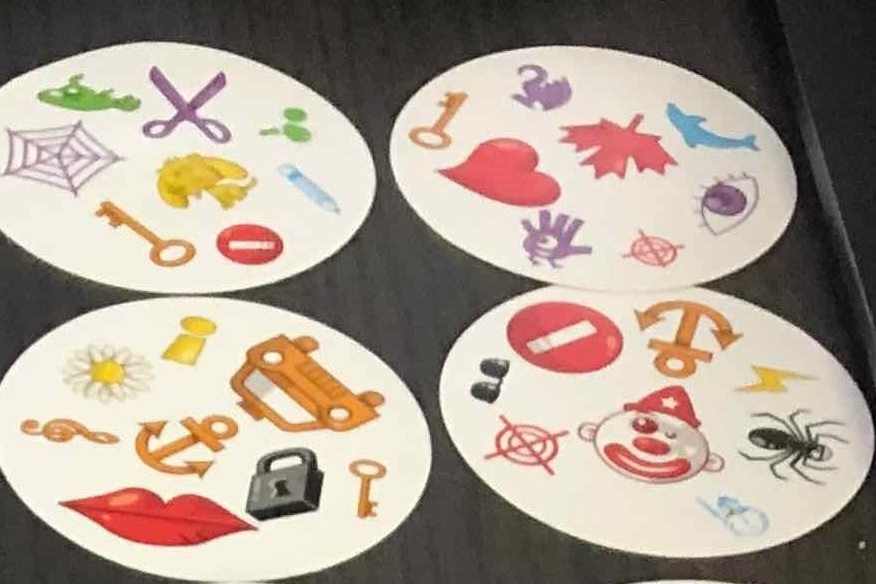ancre: (631, 296, 736, 375), (131, 409, 245, 474)
araignee: (739, 409, 851, 487)
bonhomme_neige: (693, 487, 770, 539)
bouche: (51, 483, 255, 549)
cadenas: (243, 446, 332, 521)
chien: (152, 149, 262, 214)
cible: (478, 411, 568, 478), (618, 228, 685, 269)
ciseau: (139, 63, 239, 149)
cle: (91, 197, 201, 274), (407, 87, 473, 149), (345, 457, 388, 521)
clown: (572, 381, 727, 488)
coeur: (438, 137, 561, 211)
crayon: (277, 161, 352, 218)
dauphin: (659, 97, 767, 157)
dinosore: (31, 68, 145, 115)
dooble: (515, 208, 594, 272)
feuille: (559, 114, 681, 185)
fleur: (60, 343, 156, 403), (729, 362, 814, 396)
lunette: (463, 349, 514, 408)
note: (13, 413, 124, 452)
oeuil: (683, 170, 763, 237), (504, 60, 574, 116)
point_exclamation: (153, 316, 226, 370)
sens_interdit: (505, 299, 626, 377), (210, 219, 293, 269)
tache: (253, 102, 318, 151)
toile: (1, 120, 129, 200)
voiture: (226, 332, 387, 434)
